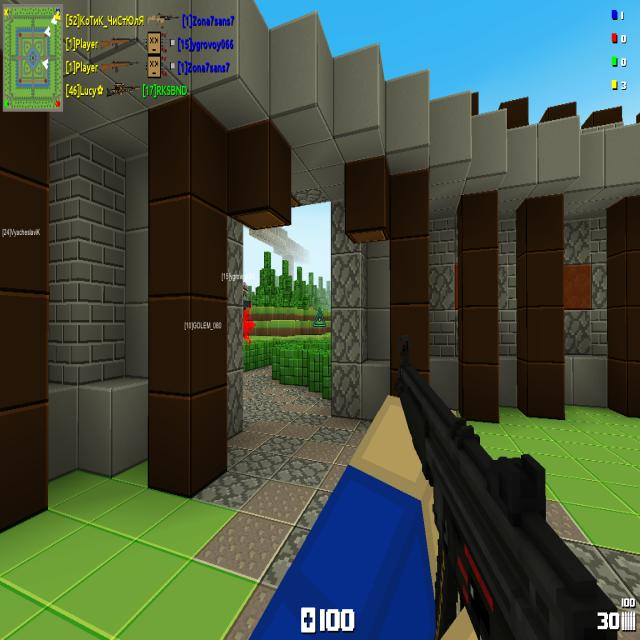enemy: (309, 304, 314, 310)
